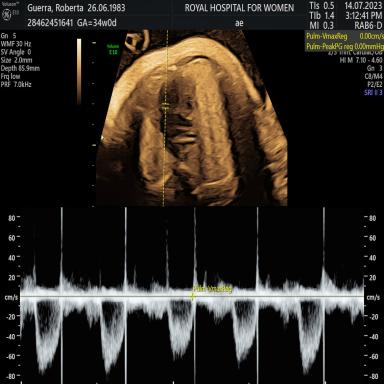Ultrasound-Waves: (22, 207, 362, 378)
